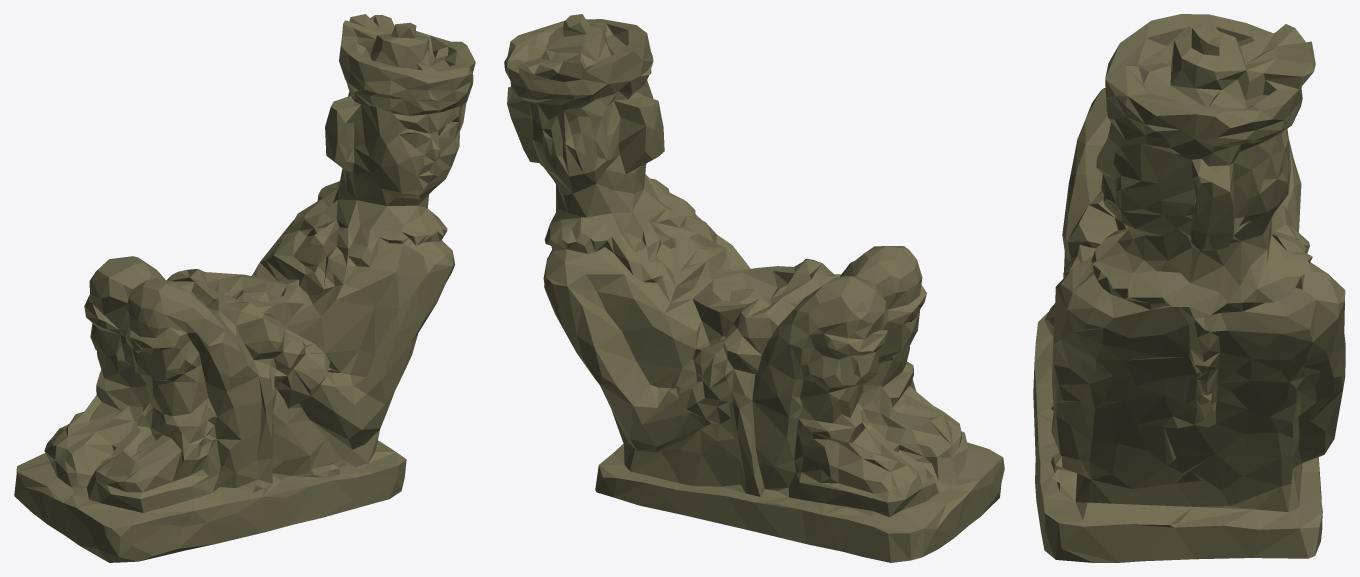
The model's file is chac-mool.lod0.glb.
The picture shows the model from 3 angles, left to right: view 1: azimuth 30°, elevation 25°; view 2: azimuth 150°, elevation 25°; view 3: azimuth 270°, elevation 25°; orthographic projection. The views are drawn at different scales.
Visible parts, largest first — view 1: Object_2; view 2: Object_2; view 3: Object_2.
Part boxes in pixels (x1,y1,x2,y2): Object_2: (14, 14, 475, 562); Object_2: (504, 14, 1004, 562); Object_2: (1033, 14, 1345, 562).
Size of the model in its own units: 1.69 by 1.58 by 0.7809.
